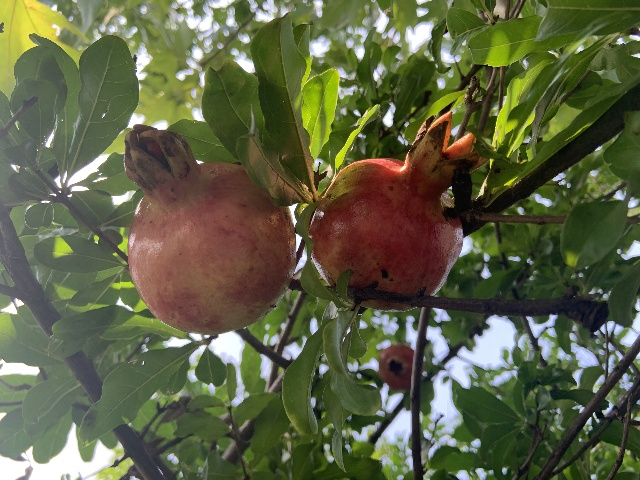ripe: (123, 124, 295, 333), (307, 109, 478, 311), (378, 344, 414, 388)
